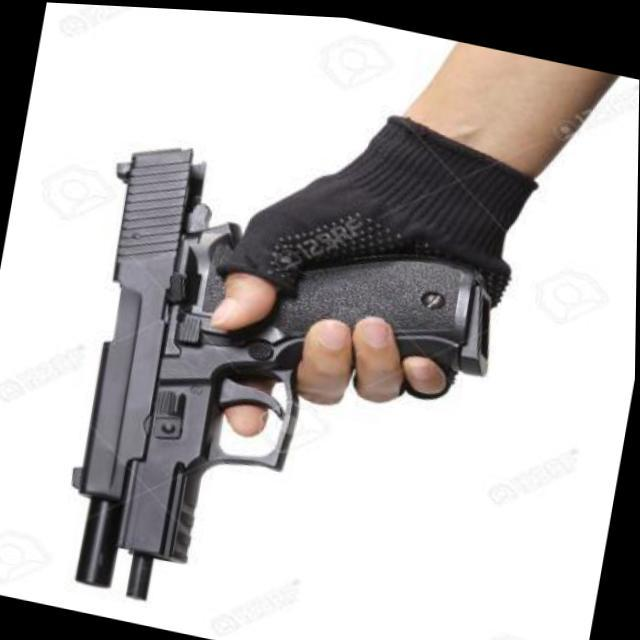weapon: (35, 118, 522, 640)
